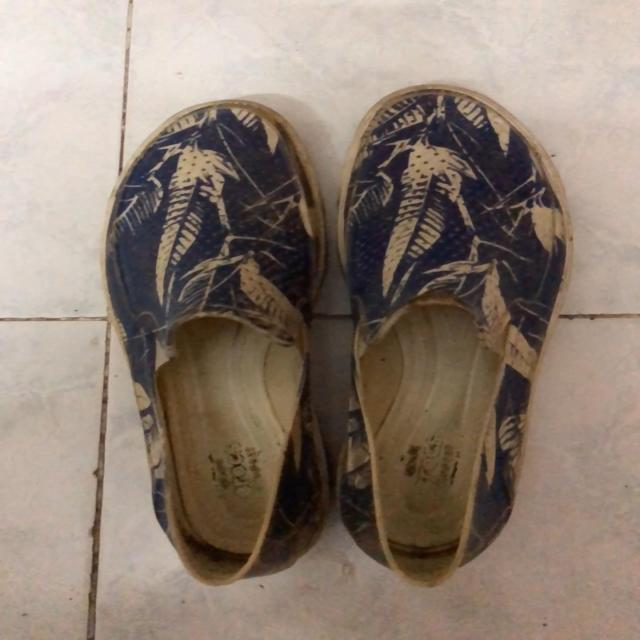shoe: (340, 83, 573, 591), (103, 98, 329, 588)
